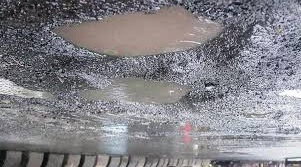pothole: (49, 4, 227, 60), (79, 74, 188, 107), (3, 84, 58, 100)
